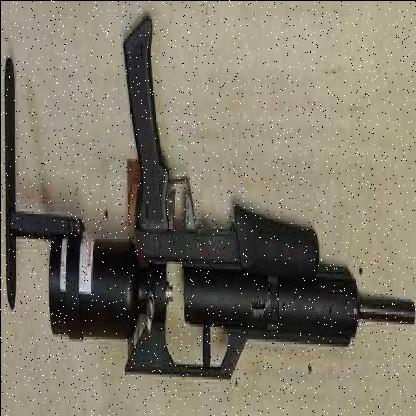rifle: (0, 7, 357, 391)
